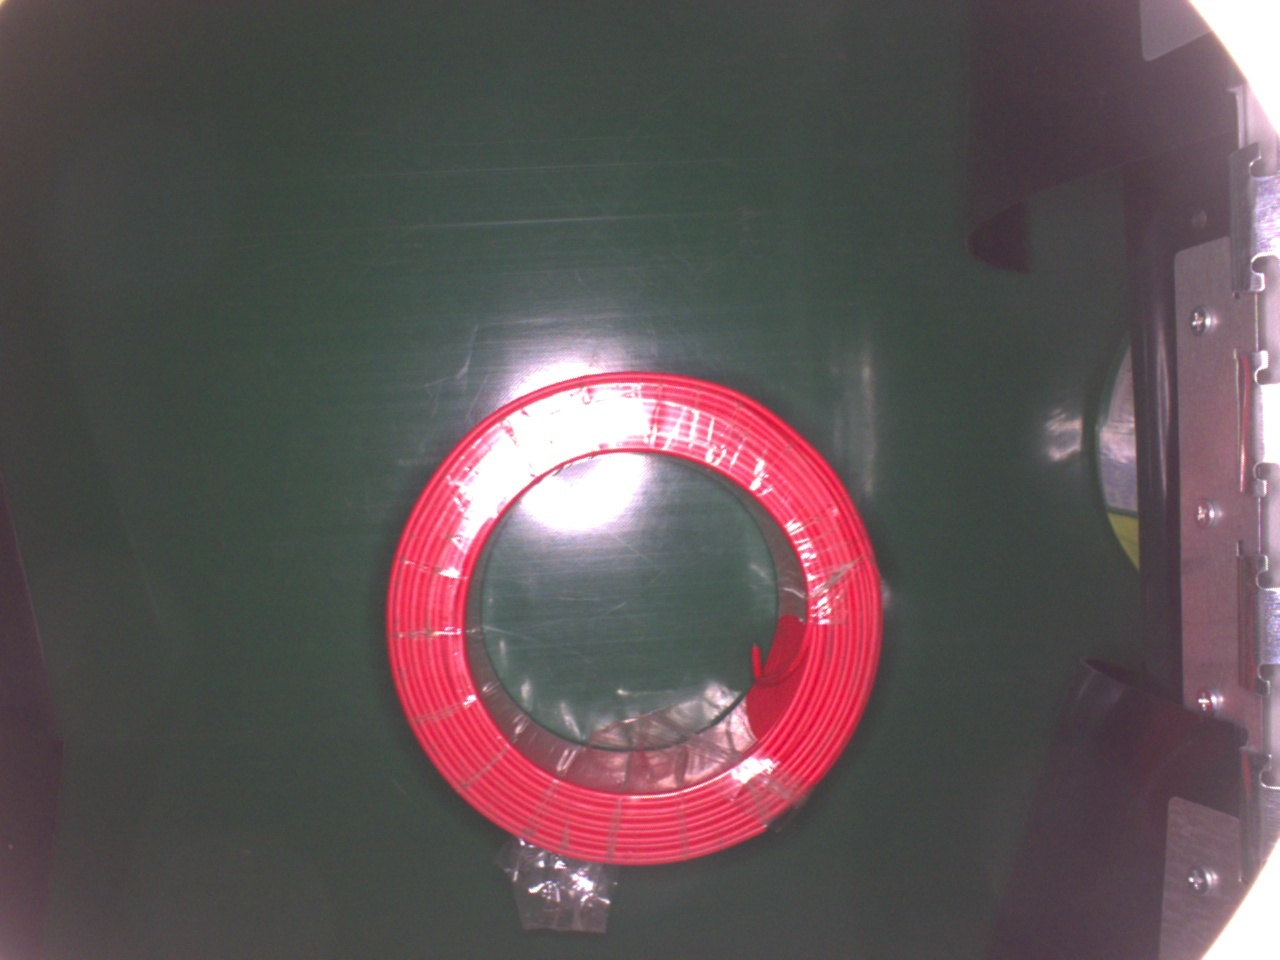red: (380, 367, 882, 862)
